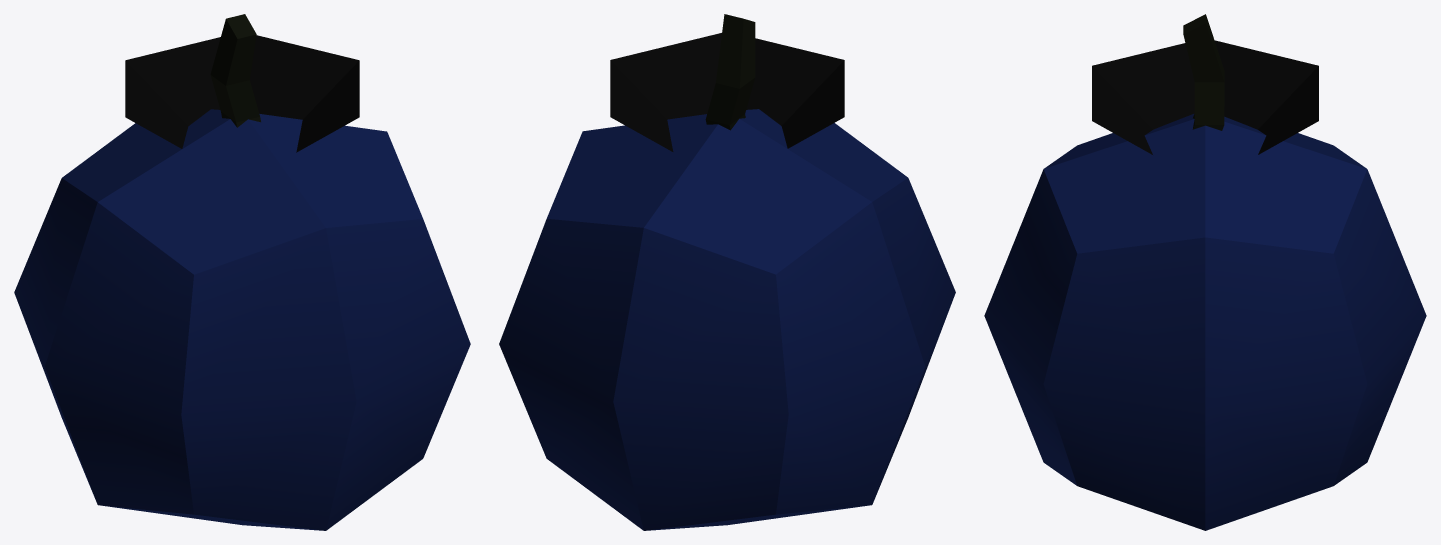
The model's file is MESH_Berry.fbx.
3 views of the same model, side by side, from view 1: azimuth 30°, elevation 25°; view 2: azimuth 150°, elevation 25°; view 3: azimuth 270°, elevation 25° (orthographic). The views are drawn at different scales.
Parts seen in each view (by area): view 1: MESH_Berry; view 2: MESH_Berry; view 3: MESH_Berry.
Part boxes in pixels (left/top/right/bottom): MESH_Berry: left=14, top=14, right=470, bottom=530; MESH_Berry: left=499, top=14, right=955, bottom=530; MESH_Berry: left=984, top=14, right=1426, bottom=530.
Size of the model in its own units: 0.0375 by 0.0462 by 0.0375.
